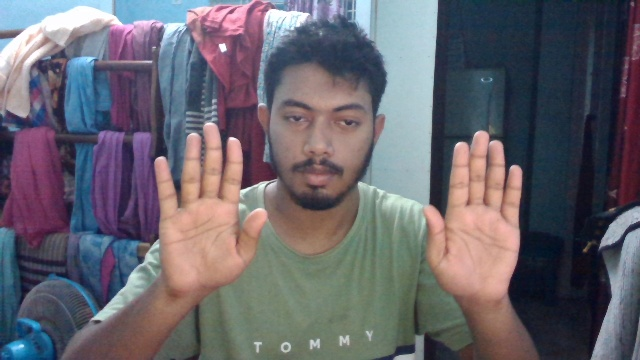thanks: (139, 117, 530, 312)
